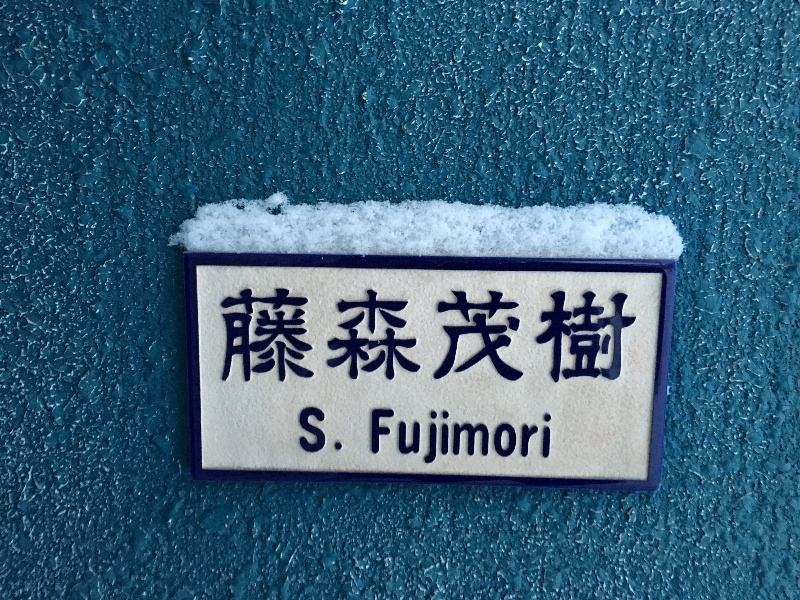text: (225, 289, 240, 383), (241, 289, 256, 383), (257, 289, 272, 383), (273, 289, 288, 383), (289, 289, 304, 383), (305, 289, 320, 383), (321, 289, 336, 383), (337, 289, 352, 383), (353, 289, 368, 383), (369, 289, 384, 383), (385, 289, 400, 383), (401, 289, 416, 383), (417, 289, 432, 383), (433, 289, 448, 383), (449, 289, 464, 383), (465, 289, 480, 383), (481, 289, 496, 383), (497, 289, 512, 383), (513, 289, 528, 383), (529, 289, 544, 383), (545, 289, 560, 383), (561, 289, 576, 383), (577, 289, 592, 383), (593, 289, 608, 383), (609, 289, 624, 383), (625, 289, 638, 383), (385, 409, 400, 466), (401, 409, 416, 466), (417, 409, 432, 466), (433, 409, 448, 466), (449, 409, 464, 466), (465, 409, 480, 466), (481, 409, 496, 466), (497, 409, 512, 466), (513, 409, 528, 466), (529, 409, 544, 466), (305, 408, 320, 454), (321, 408, 336, 454), (373, 409, 384, 466), (545, 409, 551, 466), (337, 408, 344, 454), (221, 289, 224, 383), (301, 408, 304, 454)
